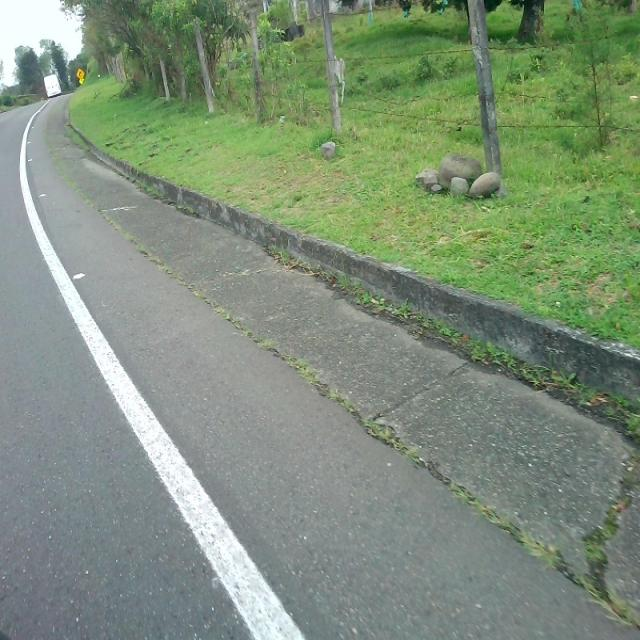DITCH: (41, 85, 639, 636), (41, 91, 638, 629)
